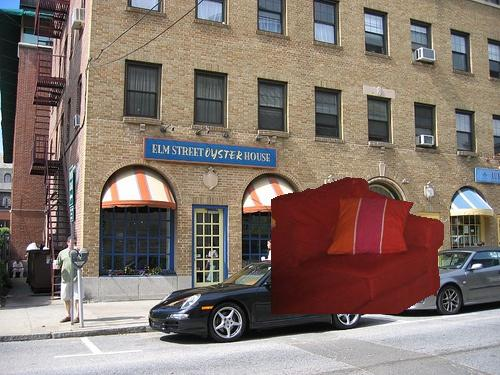tampered: (272, 178, 444, 314)
